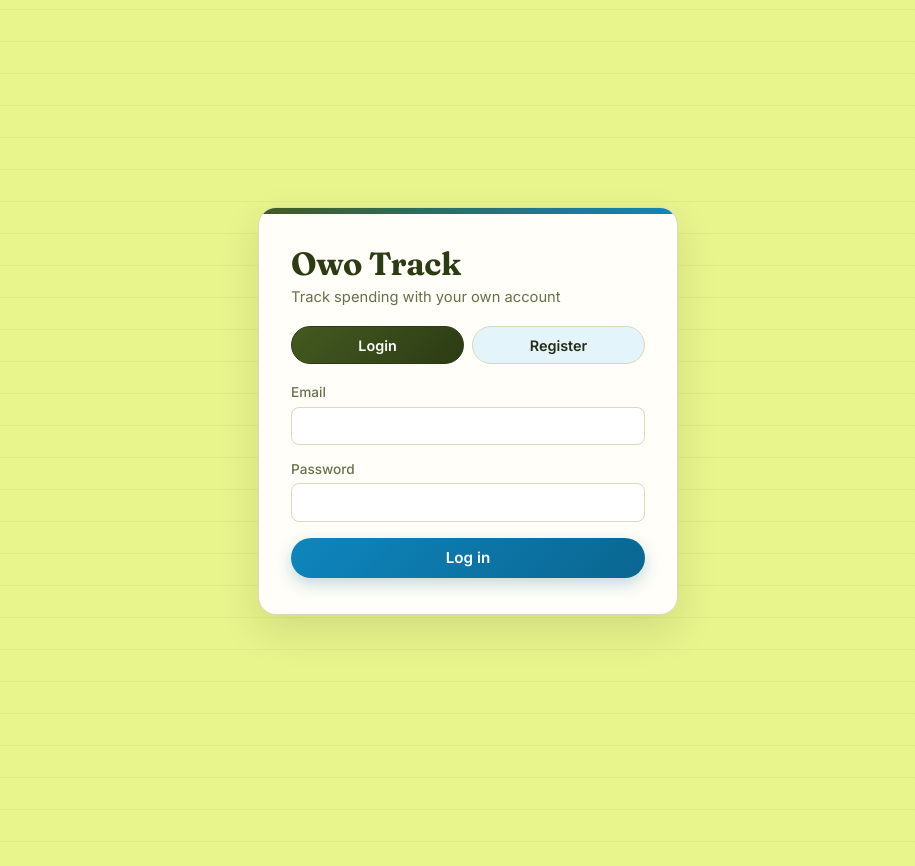
Test: App auth flow › shows the user's assigned team name in the dashboard header
Expected: the heading "Owo Track" is shown, [291,244,461,283]
Type "ada@owo.com" into the field labelled "Email" at (468,426), box [291,406,645,445]
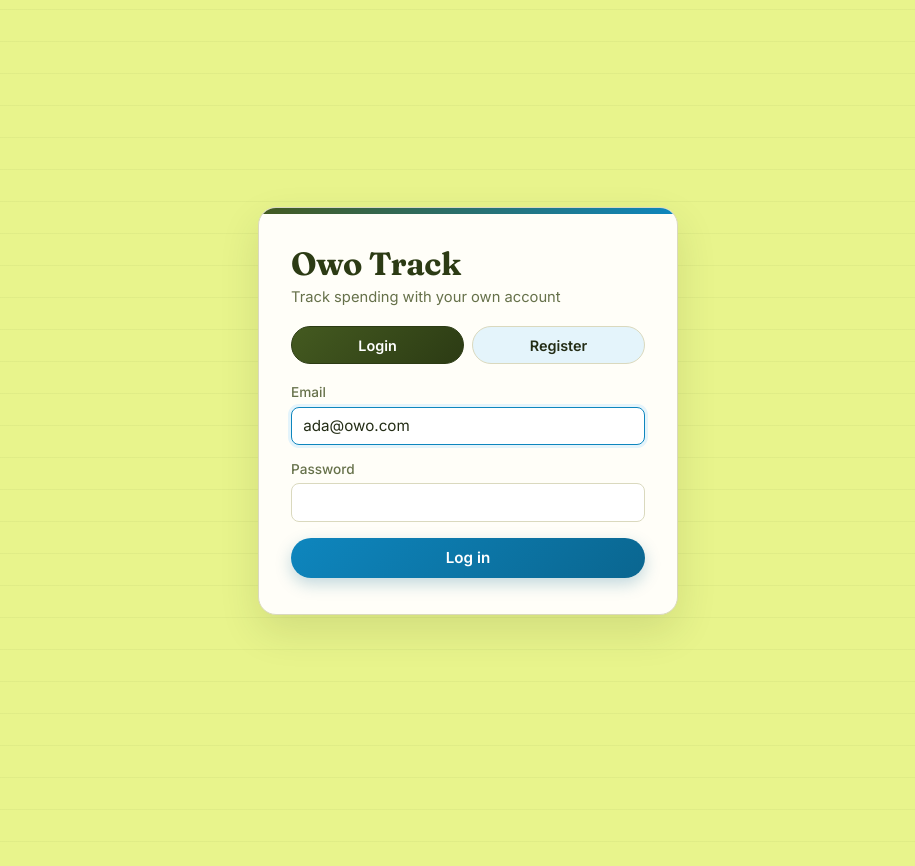
Type "password123" into the password field labelled "Password" at (468,503), box [291,484,645,522]
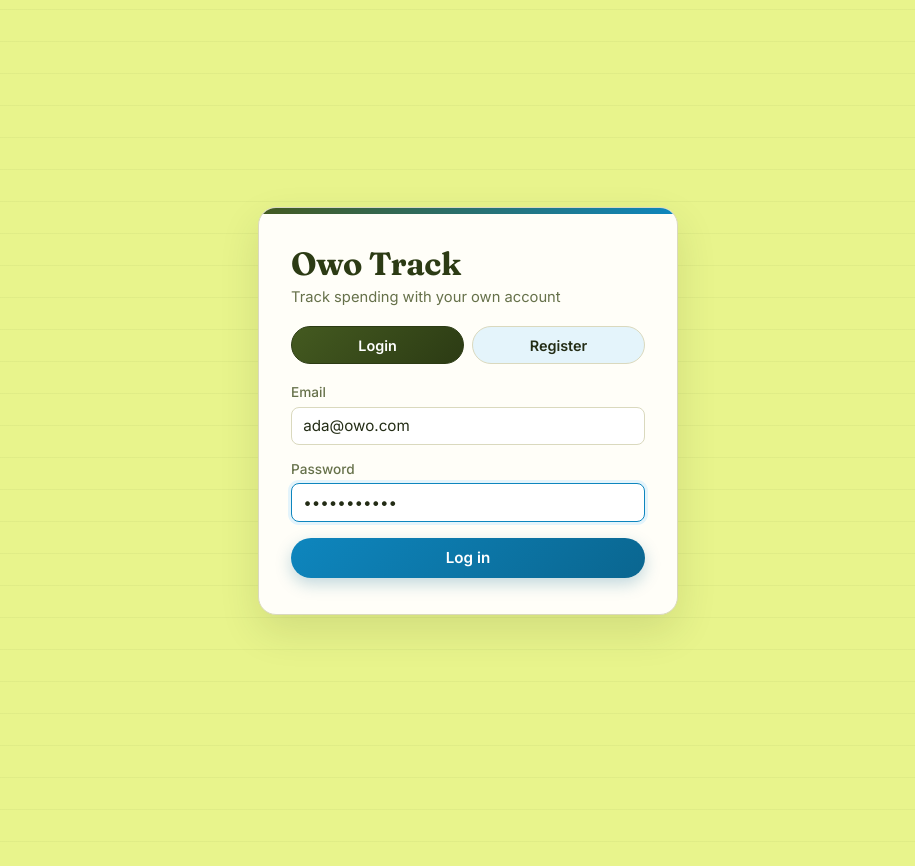
Click the button "Log in" at (468,558), box [291,538,645,578]
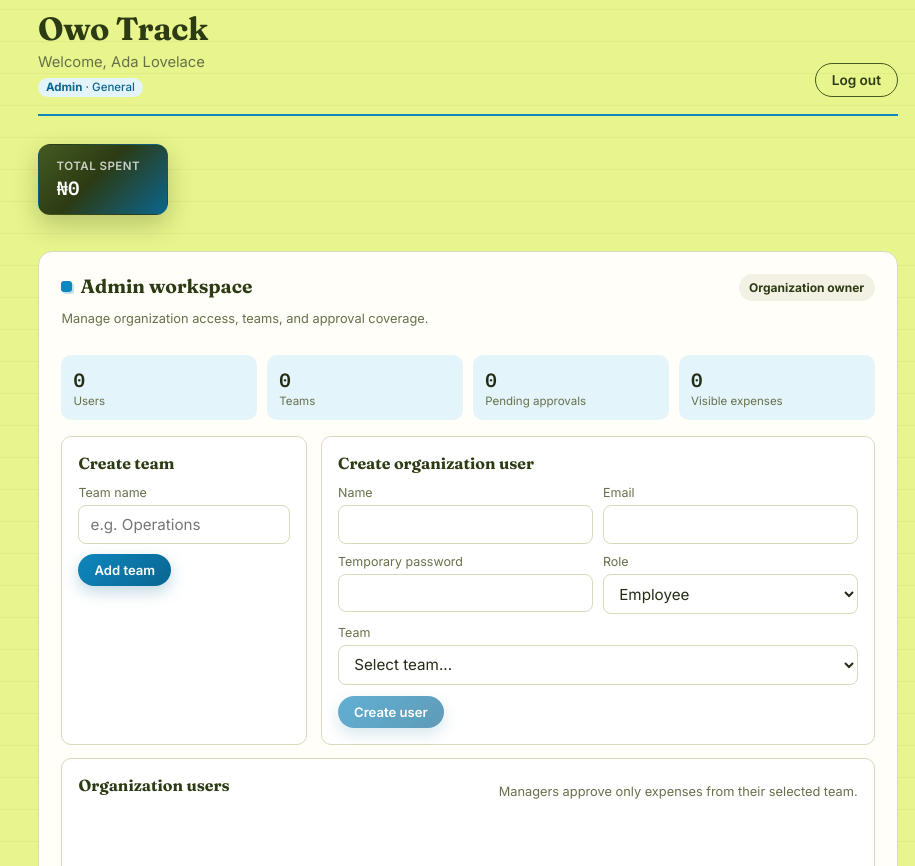
Now the text "Welcome, Ada Lovelace" is shown, box [38,53,208,71]
Now the text "· General" is shown, box [82,80,135,94]
